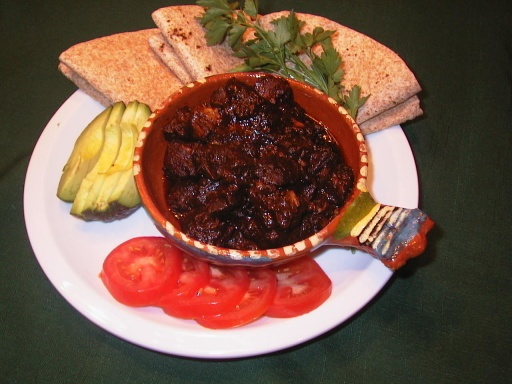background: (44, 0, 338, 150), (79, 56, 266, 197)
